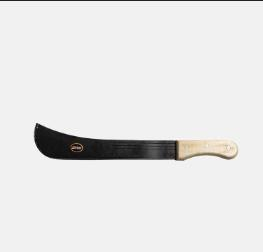MACHETTE: (33, 119, 244, 174)
